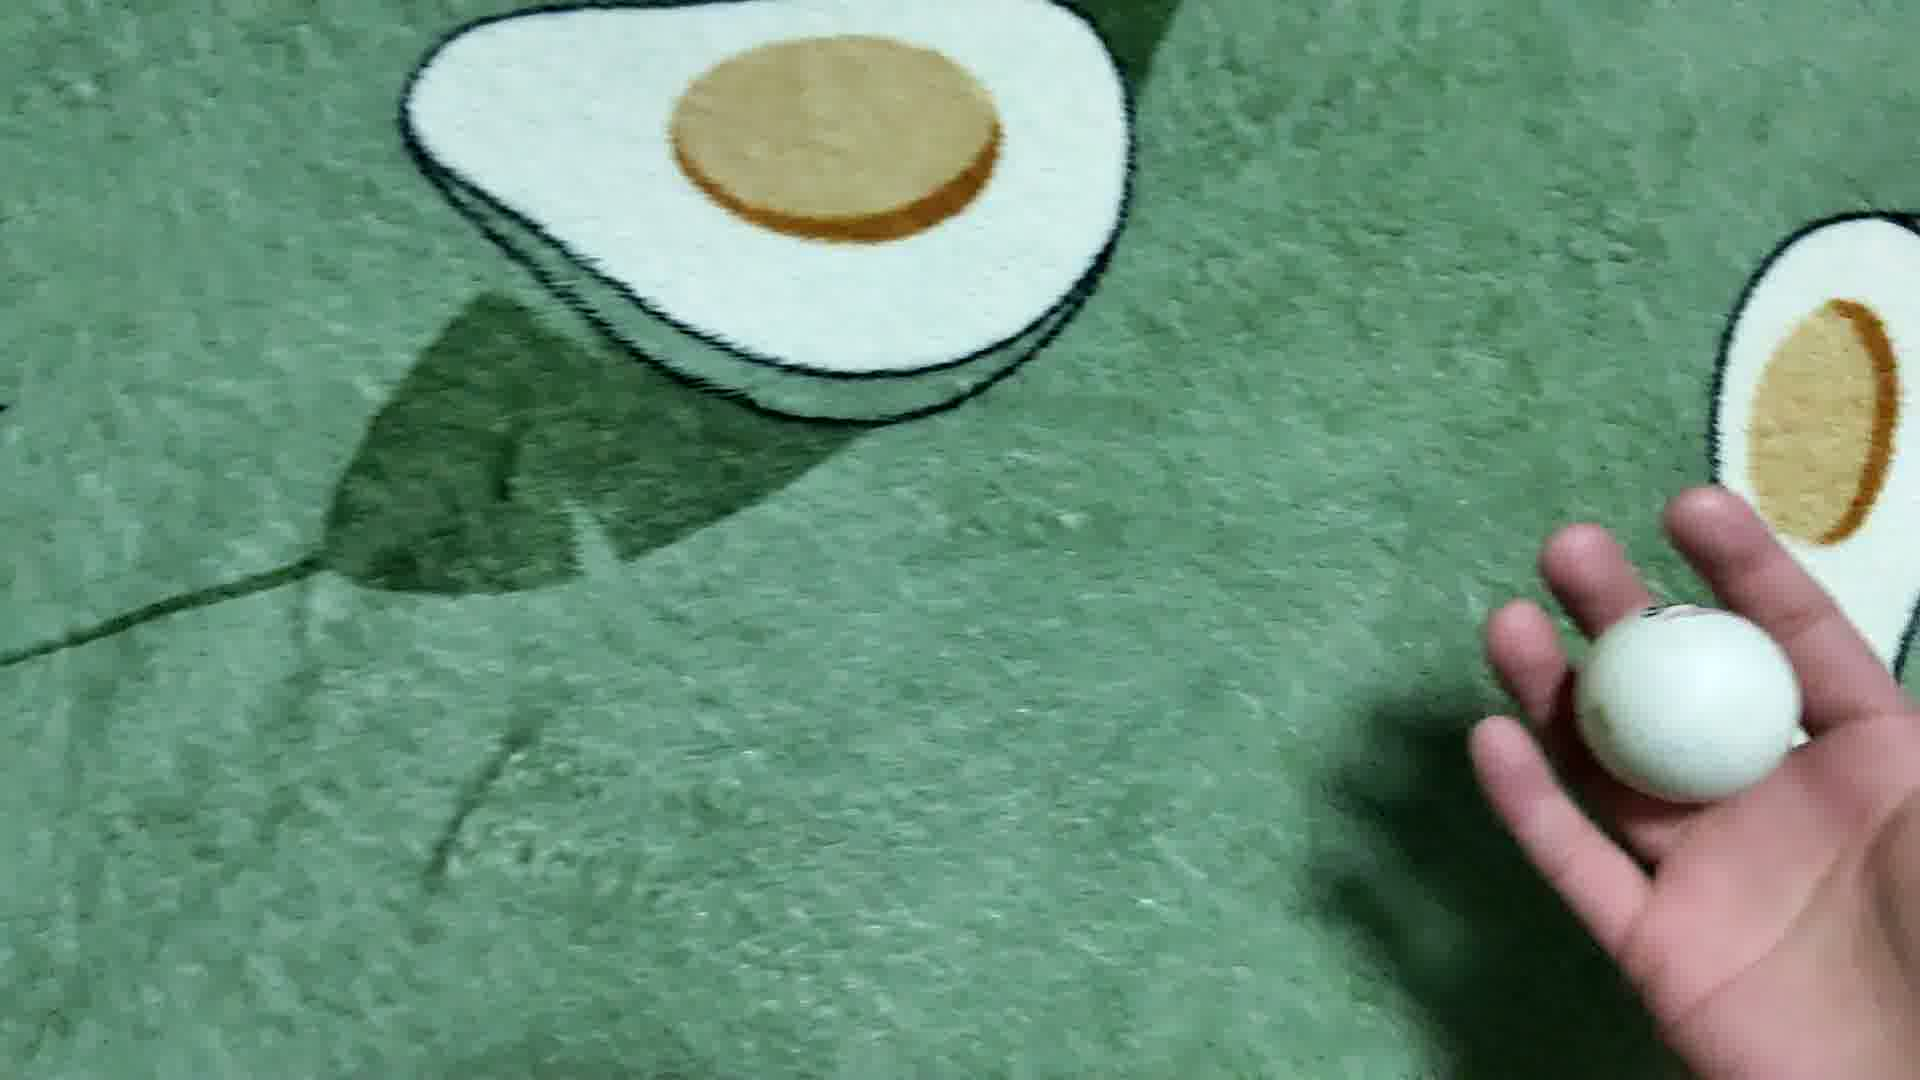Ball: (1577, 600, 1809, 803)
